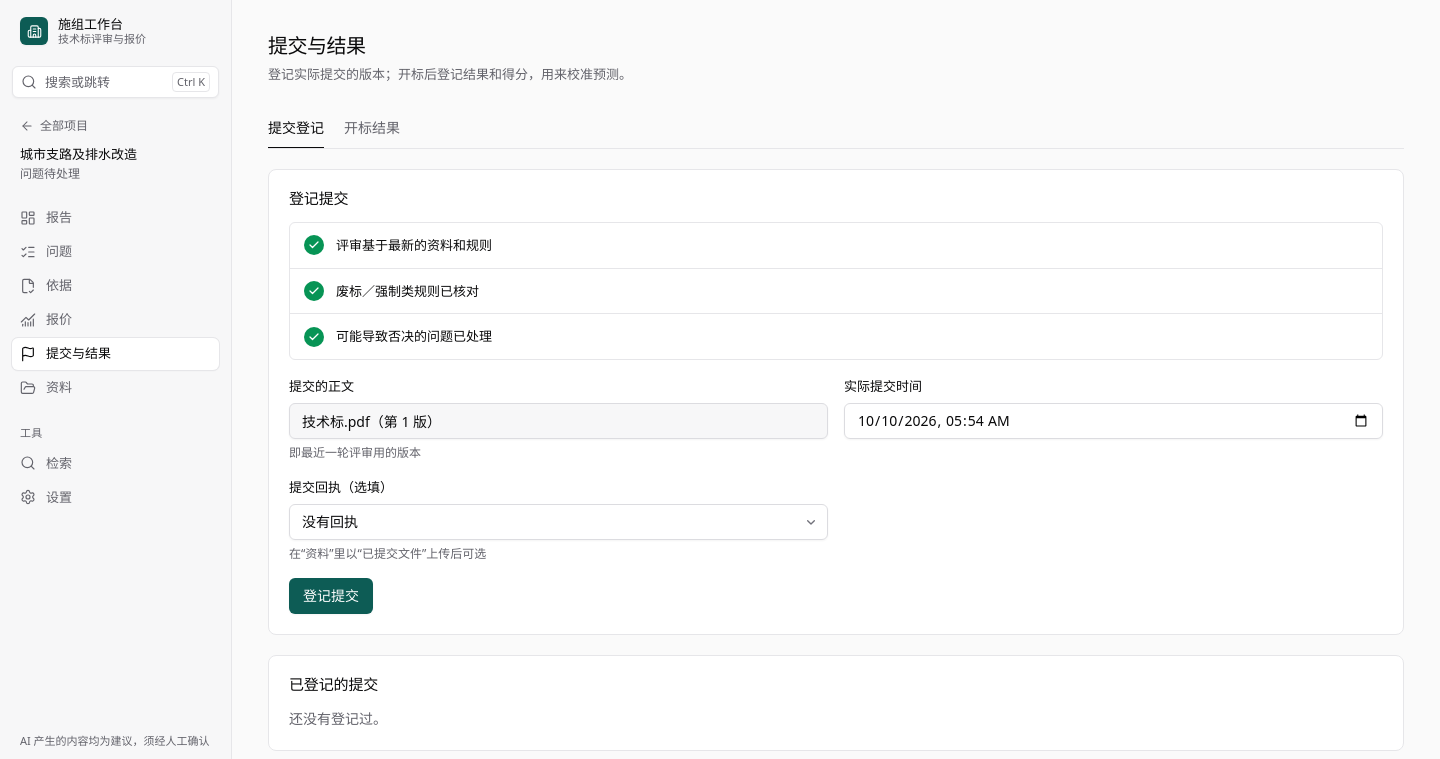
Test case: 提交与结果页：登记提交 › 409 snapshot_not_latest：显示后端消息、补一句下一步并逐项列出未满足的条件
Replace the text in the field labelled "实际提交时间" with "2026-10-05T10:00": (1114, 421) top-left (844, 403), bottom-right (1383, 439)
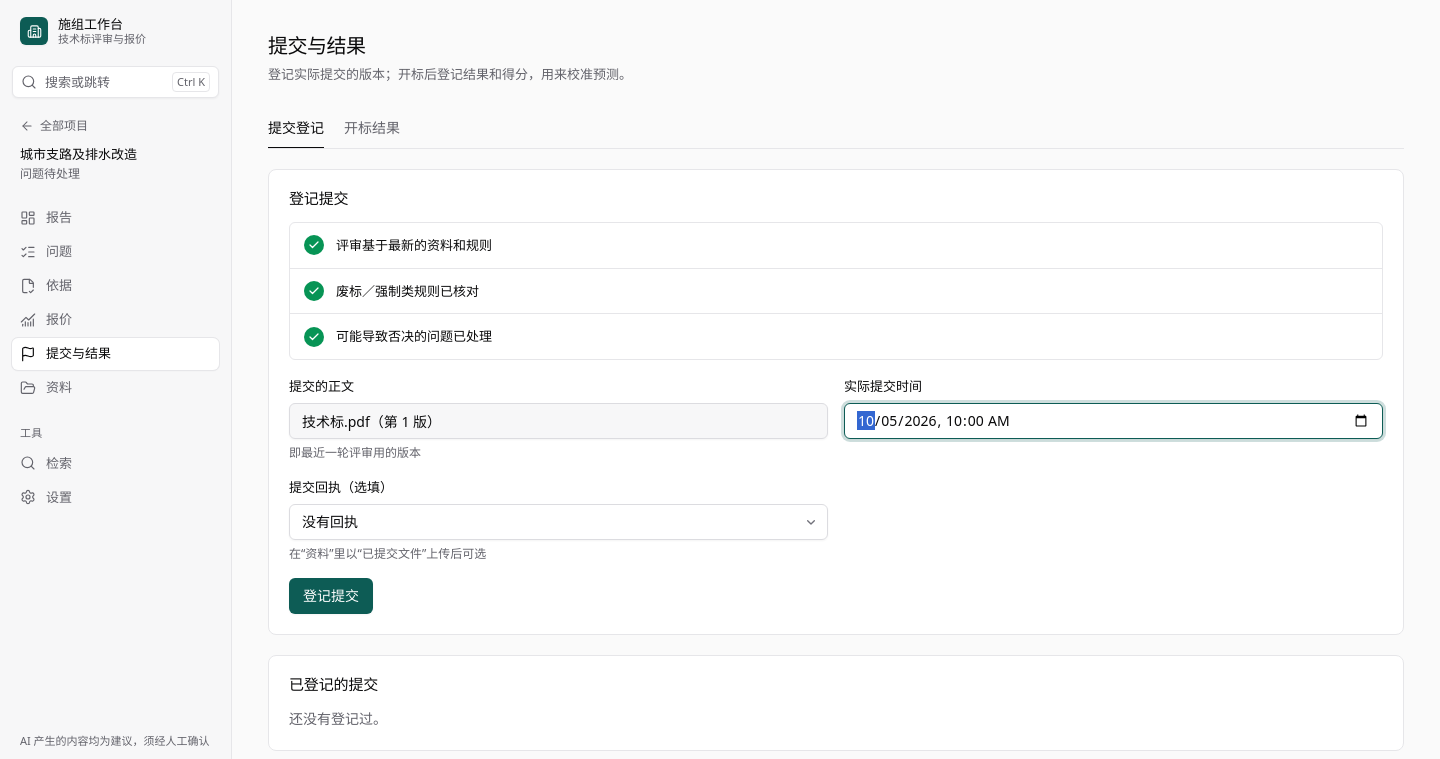
Click the button "登记提交": (331, 596) top-left (289, 578), bottom-right (373, 614)
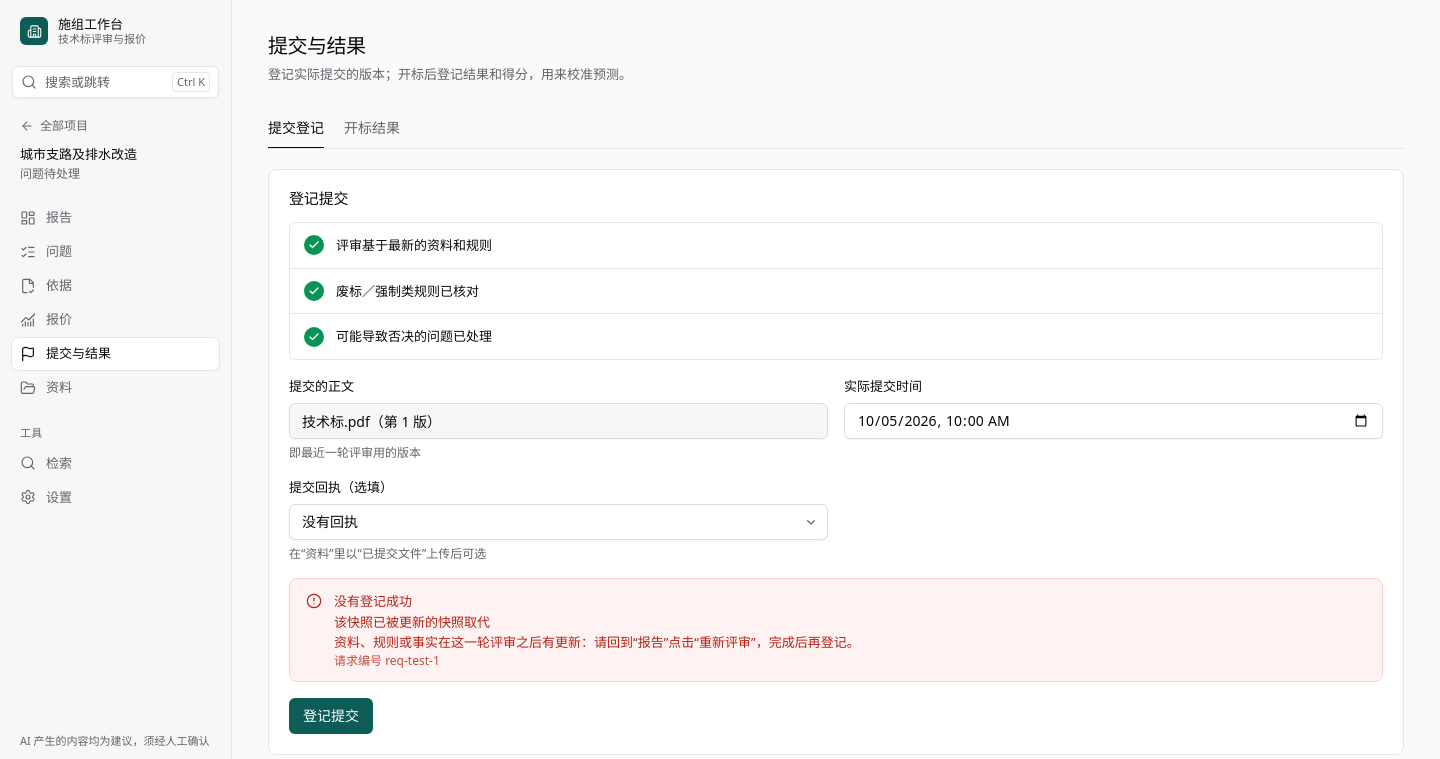
Check: the text "该快照已被更新的快照取代" is shown, box top-left (334, 613), bottom-right (490, 631)
Check: the text "资料、规则或事实在这一轮评审之后有更新：请回到“报告”点击“重新评审”，完成后再登记。" is shown, box top-left (334, 633), bottom-right (860, 651)
